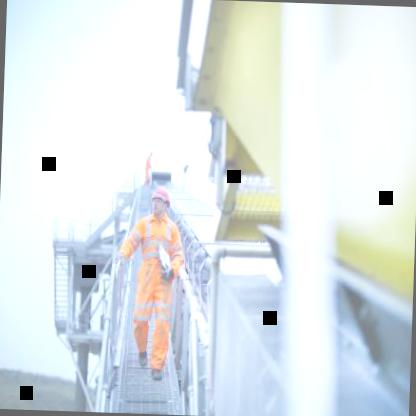helmet: (148, 186, 172, 219)
